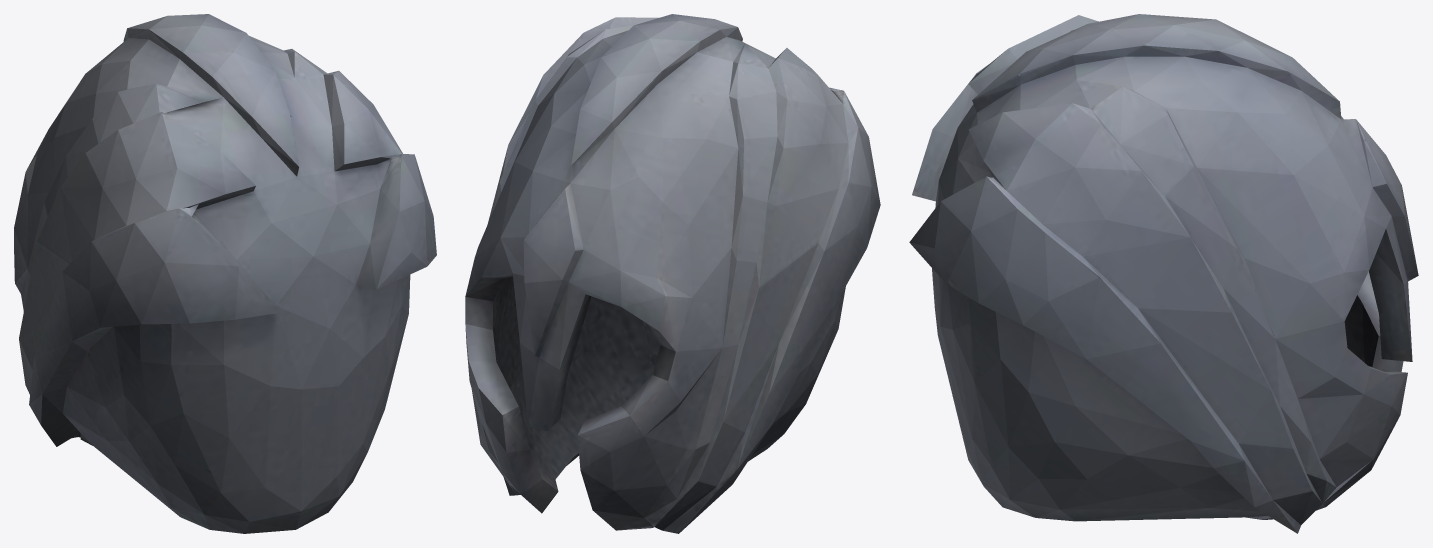
File: helmet.obj
The picture shows the model from 3 angles, left to right: view 1: azimuth 30°, elevation 25°; view 2: azimuth 150°, elevation 25°; view 3: azimuth 270°, elevation 25°; orthographic projection. The views are drawn at different scales.
Size of the model in its own units: 0.6394 by 0.8335 by 0.8257.
Materials: 1 (1 with a texture image).
